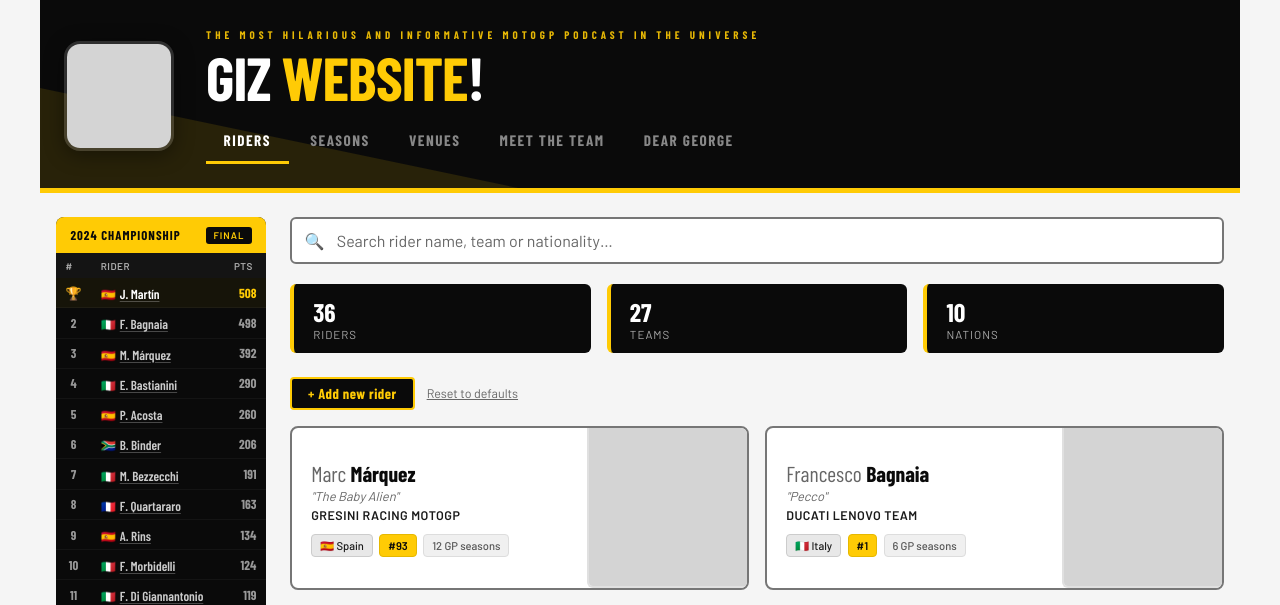
Test: Championship standings › clicking a standings row for a known rider opens their detail
Step 1. Click the text "J. Martín" → (161, 293), box x1=56 y1=278 x2=266 y2=308
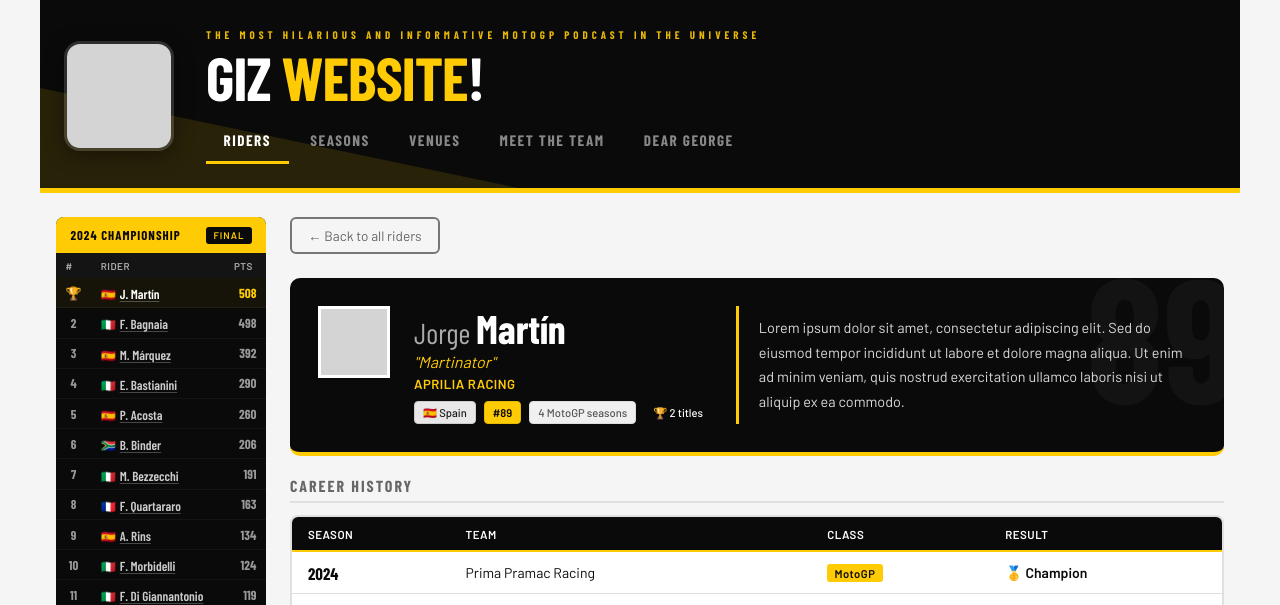
Expected: the text "Martín" is shown, x1=476 y1=304 x2=566 y2=352
Expected: the button "← Back to all riders" is shown, x1=290 y1=217 x2=440 y2=254
